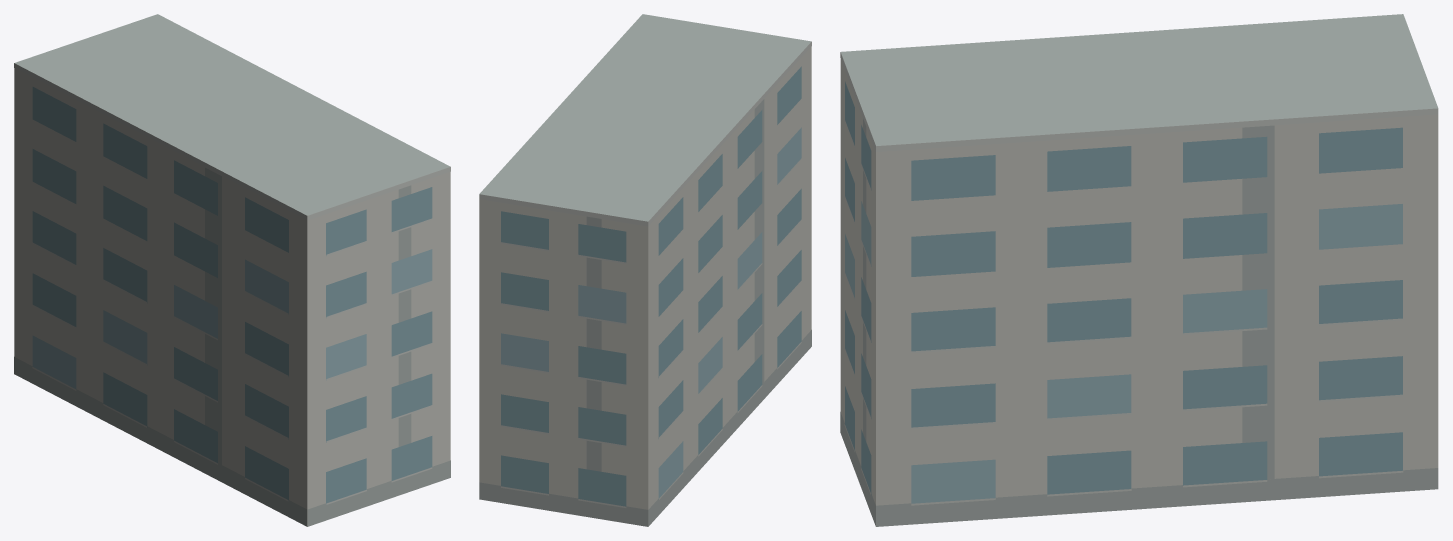
The model's file is survey-upis-32985723.glb.
3 renders of one model, left to right at view 1: azimuth 30°, elevation 25°; view 2: azimuth 150°, elevation 25°; view 3: azimuth 270°, elevation 25°, orthographic. The views are drawn at different scales.
Parts seen in each view (by area): view 1: survey-upis-32985723.tmp; view 2: survey-upis-32985723.tmp; view 3: survey-upis-32985723.tmp.
Part boxes in pixels (bbox=[...]): survey-upis-32985723.tmp: bbox=[14, 14, 450, 526]; survey-upis-32985723.tmp: bbox=[479, 14, 811, 526]; survey-upis-32985723.tmp: bbox=[840, 14, 1438, 526].
Size of the model in its own units: 11.36 by 15.25 by 21.71.
